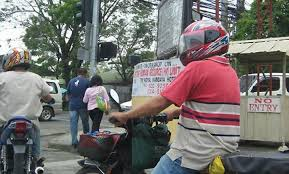helmet: (176, 19, 250, 66), (1, 40, 36, 76)
